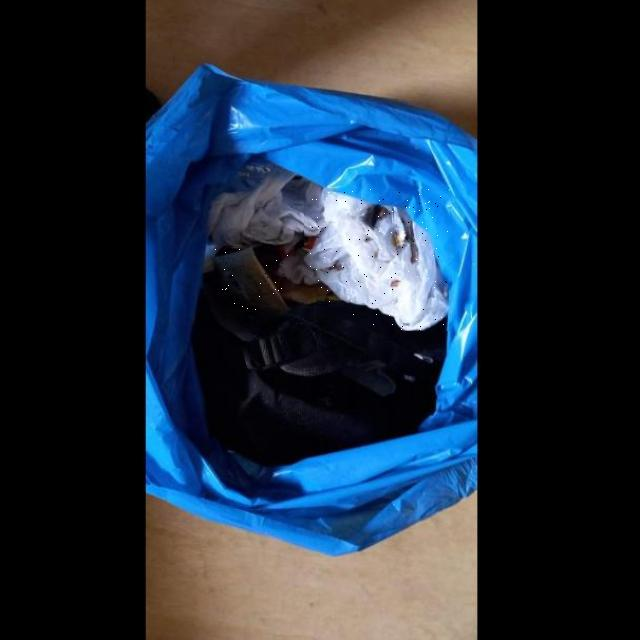plastic: (305, 189, 450, 330)
wrapper: (216, 247, 289, 309)
